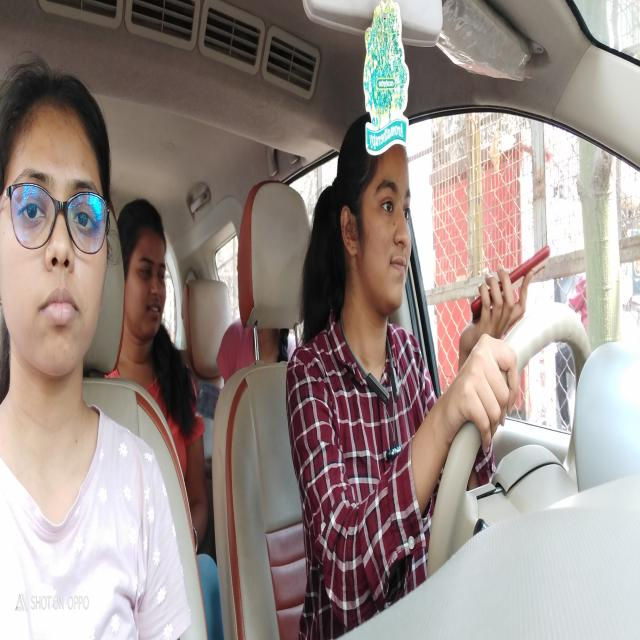mobile: (460, 233, 555, 324)
person: (0, 65, 116, 417), (341, 107, 432, 340), (122, 185, 182, 368)
